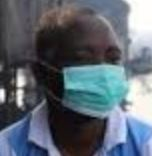with_facemask: (59, 64, 133, 120)
